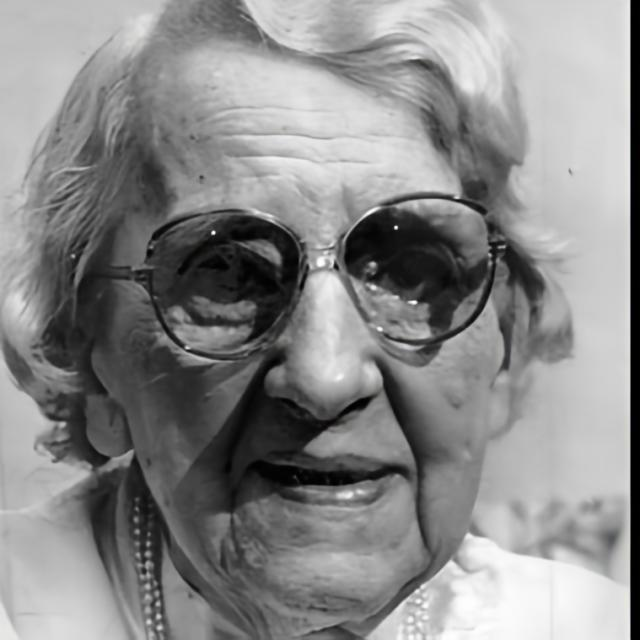neutral: (121, 41, 497, 626)
